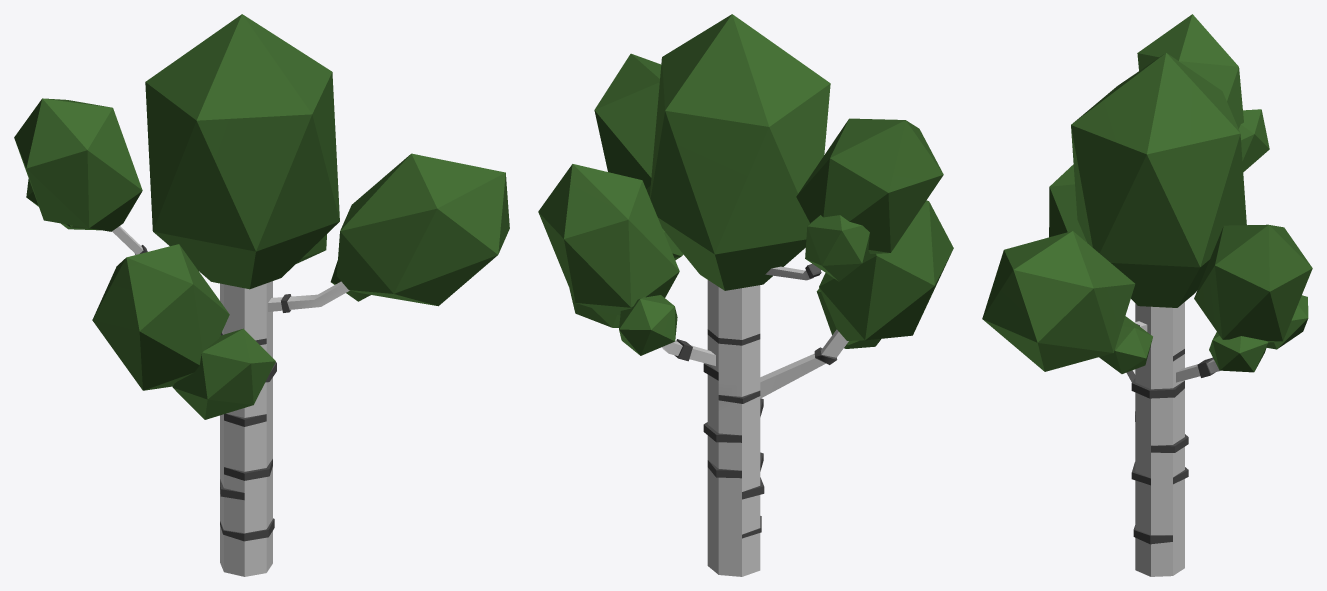
The model's file is Bouleau_03.fbx.
3 renders of one model, left to right at view 1: azimuth 30°, elevation 25°; view 2: azimuth 150°, elevation 25°; view 3: azimuth 270°, elevation 25°, orthographic. The views are drawn at different scales.
Visible parts, largest first — view 1: Bouleau_03; view 2: Bouleau_03; view 3: Bouleau_03.
Part boxes in pixels (<box>): Bouleau_03: <box>14,14,509,576</box>; Bouleau_03: <box>538,14,953,576</box>; Bouleau_03: <box>982,14,1312,576</box>.
Bounding box in the file's own units: 408 × 520 × 303.
Materials: 1 (1 with a texture image).
